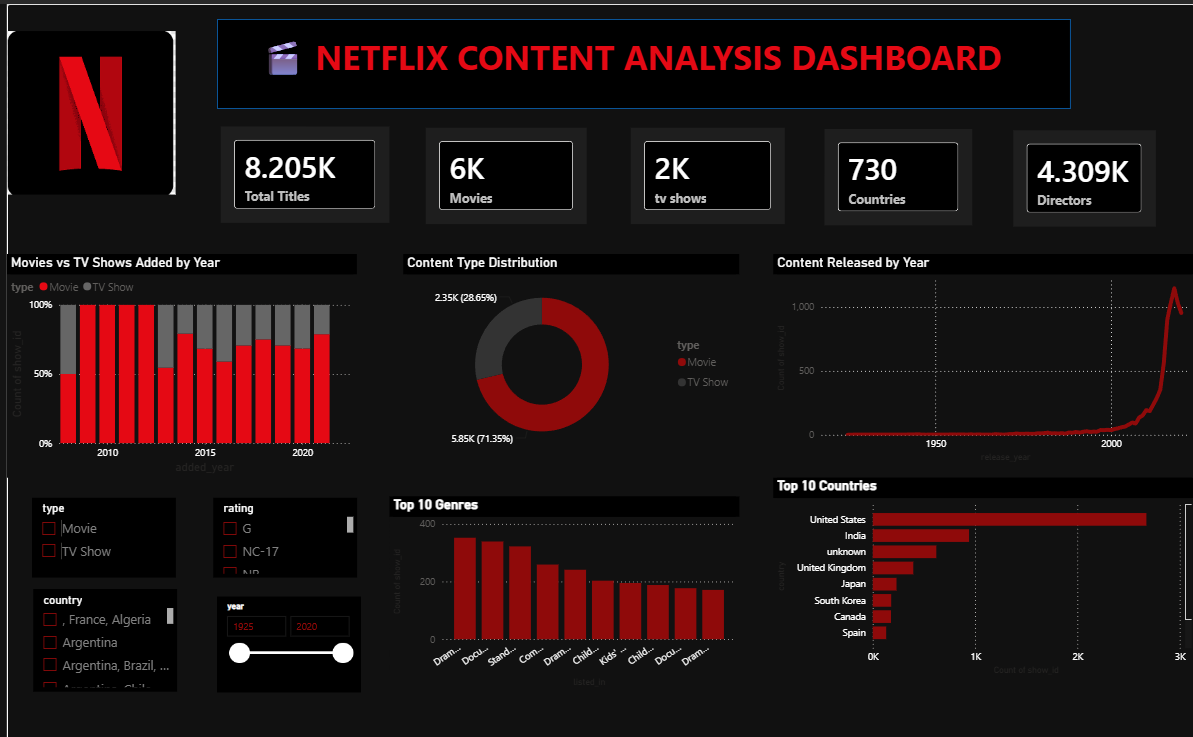

The dashboard page shown, as its layout file describes it:
{"tool":"powerbi","page":{"name":"Page 1","canvas":[1500,929],"ordinal":0},"visuals":[{"type":"donutChart","title":"Content Type Distribution","fields":{"Y":["CountNonNull(Sheet1.title)"],"Category":["Sheet1.type"]},"box":[500.1,315.5,424.4,258.7],"z":0},{"type":"clusteredBarChart","title":"Top 10 Countries","fields":{"Category":["netflix_cleaned.country"],"Y":["CountNonNull(netflix_cleaned.show_id)"]},"box":[967.1,623.2,533.2,282.4],"z":1000},{"type":"clusteredColumnChart","title":"Top 10  Genres","fields":{"Category":["netflix_cleaned.listed_in"],"Y":["CountNonNull(netflix_cleaned.show_id)"]},"box":[482.8,623.2,441.7,282.4],"z":2000},{"type":"lineChart","title":"Content Released by Year","fields":{"Category":["netflix_cleaned.release_year"],"Y":["CountNonNull(netflix_cleaned.show_id)"]},"box":[967.1,315.5,533.2,268.2],"z":3000},{"type":"hundredPercentStackedColumnChart","title":"Movies vs TV Shows Added by Year","fields":{"Series":["netflix_cleaned.type"],"Category":["netflix_cleaned.added_year"],"Y":["CountNonNull(netflix_cleaned.show_id)"]},"box":[0,315.5,441.7,282.4],"z":4000},{"type":"slicer","fields":{"Values":["netflix_cleaned.rating"]},"box":[260.3,623.2,181.4,140.4],"z":6000},{"type":"slicer","fields":{"Values":["netflix_cleaned.type"]},"box":[31.6,623.2,181.4,101],"z":7000},{"type":"slicer","fields":{"Values":["netflix_cleaned.country"]},"box":[31.6,750.9,181.4,154.6],"z":8000},{"type":"slicer","fields":{"Values":["netflix_cleaned.release_year"]},"box":[265,782.5,181.4,123.1],"z":9000},{"type":"image","box":[0,18.9,213,236.6],"z":10000},{"type":"cardVisual","fields":{"Data":["netflix_cleaned.Total Titles"]},"box":[269.8,154.6,213,121.5],"z":11000},{"type":"cardVisual","fields":{"Data":["netflix_cleaned.Movies"]},"box":[528.5,156.2,203.5,121.5],"z":12000},{"type":"cardVisual","fields":{"Data":["netflix_cleaned.Tv Shows"]},"box":[787.2,156.2,194,121.5],"z":13000},{"type":"cardVisual","fields":{"Data":["netflix_cleaned.Directors"]},"box":[1270,159.3,179.8,121.5],"z":14000},{"type":"cardVisual","fields":{"Data":["netflix_cleaned.Countries"]},"box":[1031.8,157.8,186.2,121.5],"z":15000},{"type":"shape","box":[265,18.9,1077.5,113.6],"z":16001},{"type":"textbox","box":[313.9,31.6,1003.4,88.3],"z":16002}]}

Visuals, with their boxes in screenshot pixels (x1, y1, x2, y2), scaled from the page's 1500x929 canvas onto the 1193x737 screenshot:
"Content Type Distribution" donutChart: <region>398, 250, 735, 456</region>
"Top 10 Countries" clusteredBarChart: <region>769, 494, 1192, 718</region>
"Top 10  Genres" clusteredColumnChart: <region>384, 494, 735, 718</region>
"Content Released by Year" lineChart: <region>769, 250, 1192, 463</region>
"Movies vs TV Shows Added by Year" hundredPercentStackedColumnChart: <region>0, 250, 351, 474</region>
slicer - netflix_cleaned.rating: <region>207, 494, 351, 606</region>
slicer - netflix_cleaned.type: <region>25, 494, 169, 575</region>
slicer - netflix_cleaned.country: <region>25, 596, 169, 718</region>
slicer - netflix_cleaned.release_year: <region>211, 621, 355, 718</region>
image: <region>0, 15, 169, 203</region>
cardVisual - netflix_cleaned.Total Titles: <region>215, 123, 384, 219</region>
cardVisual - netflix_cleaned.Movies: <region>420, 124, 582, 220</region>
cardVisual - netflix_cleaned.Tv Shows: <region>626, 124, 780, 220</region>
cardVisual - netflix_cleaned.Directors: <region>1010, 126, 1153, 223</region>
cardVisual - netflix_cleaned.Countries: <region>821, 125, 969, 222</region>
shape: <region>211, 15, 1068, 105</region>
textbox: <region>250, 25, 1048, 95</region>
